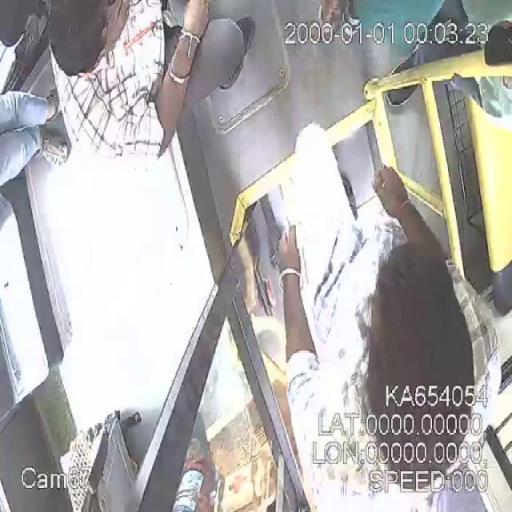persona: (232, 121, 496, 511), (46, 0, 252, 157)
